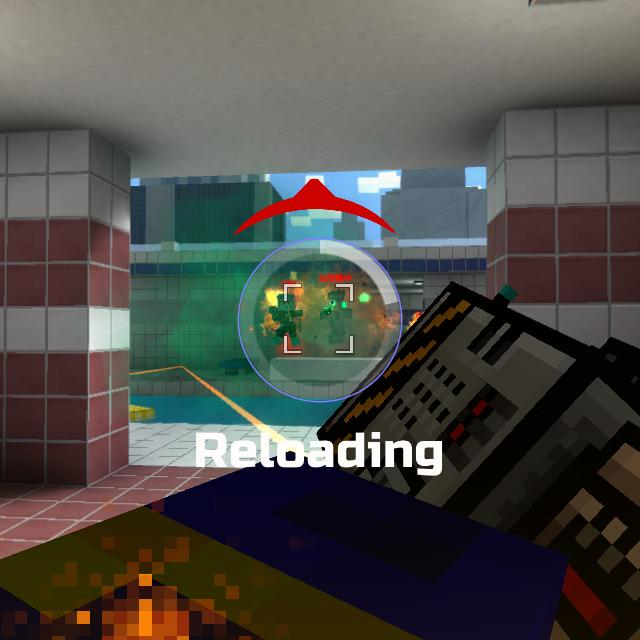Enemy: (268, 293, 304, 347), (320, 288, 353, 344)
